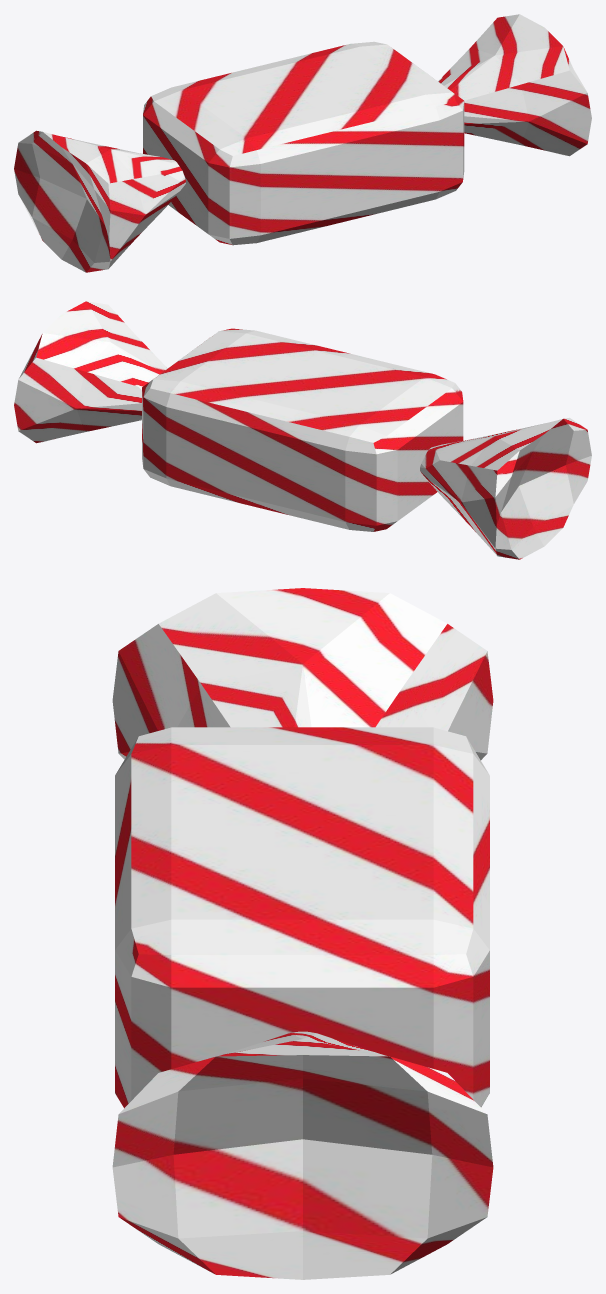
Rendered from redCandy.fbx.
3 views of the same model, one above another, from view 1: azimuth 30°, elevation 25°; view 2: azimuth 150°, elevation 25°; view 3: azimuth 270°, elevation 25° (orthographic). The views are drawn at different scales.
Visible parts, largest first — view 1: Cube.008; view 2: Cube.008; view 3: Cube.008.
Part boxes in pixels (left/top/right/bottom): Cube.008: left=14, top=14, right=591, bottom=272; Cube.008: left=14, top=301, right=591, bottom=559; Cube.008: left=112, top=588, right=493, bottom=1279.
Bounding box in the file's own units: 898 × 204 × 307.
